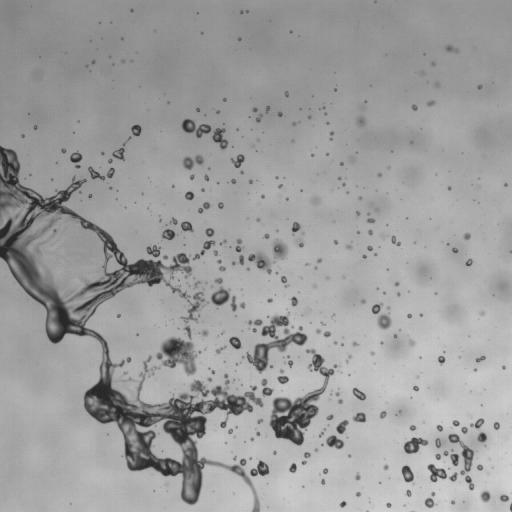droplet: (244, 312, 307, 373), (248, 239, 287, 274), (210, 278, 237, 310), (403, 437, 428, 453), (212, 128, 228, 149), (182, 155, 203, 169), (377, 312, 391, 329), (326, 435, 343, 449), (112, 143, 125, 160), (401, 465, 414, 482), (261, 378, 273, 396), (70, 151, 82, 168), (231, 154, 244, 167), (229, 336, 242, 349), (146, 245, 160, 257), (336, 420, 348, 434), (424, 492, 435, 507), (277, 369, 288, 383), (162, 229, 175, 240), (470, 418, 484, 428), (181, 221, 193, 232), (371, 303, 383, 314), (480, 490, 491, 502), (352, 412, 365, 422), (131, 124, 141, 135), (292, 222, 300, 234), (356, 116, 365, 126), (477, 432, 486, 442), (391, 236, 400, 245), (295, 238, 304, 247), (185, 191, 193, 200), (205, 228, 214, 236), (289, 463, 296, 473), (290, 297, 297, 306), (199, 329, 208, 336), (500, 494, 509, 501), (286, 356, 292, 366), (312, 196, 320, 203), (465, 258, 472, 266), (438, 356, 445, 364), (238, 255, 244, 264), (463, 232, 470, 239), (367, 217, 375, 223), (194, 280, 200, 288), (493, 421, 499, 429), (435, 438, 440, 447), (427, 100, 434, 106), (170, 218, 177, 224), (380, 411, 386, 418), (326, 414, 333, 420), (452, 420, 459, 426), (461, 426, 467, 433), (239, 302, 245, 308), (436, 425, 442, 431), (435, 453, 441, 459), (340, 501, 346, 507), (256, 115, 261, 122), (355, 473, 360, 480), (218, 202, 223, 208), (346, 244, 352, 249), (219, 266, 225, 271), (409, 340, 415, 345), (257, 418, 263, 423), (383, 464, 388, 470), (477, 464, 482, 470), (323, 468, 328, 474), (406, 490, 411, 496), (412, 105, 417, 110), (189, 174, 194, 179), (367, 245, 372, 250), (413, 385, 418, 390), (410, 425, 415, 430), (386, 502, 391, 507), (265, 106, 269, 112), (33, 124, 37, 130), (263, 234, 269, 238), (220, 240, 226, 244), (162, 255, 168, 259), (352, 342, 358, 346), (252, 107, 257, 111), (61, 148, 65, 153), (204, 175, 208, 180), (368, 229, 372, 234), (452, 248, 457, 252), (213, 250, 217, 255), (317, 258, 321, 263), (267, 298, 272, 302), (228, 429, 233, 433), (435, 83, 439, 87), (477, 85, 481, 89), (278, 112, 282, 116), (231, 179, 235, 183), (278, 184, 282, 188), (362, 254, 366, 258), (217, 259, 221, 263), (361, 299, 365, 303), (480, 311, 484, 315), (407, 314, 411, 318), (252, 328, 256, 332), (370, 351, 374, 355), (207, 377, 211, 381), (338, 399, 342, 403), (256, 432, 260, 436), (356, 492, 360, 496), (285, 91, 288, 96), (321, 479, 324, 484), (330, 131, 333, 135), (108, 159, 112, 162), (356, 211, 359, 215), (334, 240, 337, 244), (395, 282, 398, 286), (393, 334, 397, 337), (123, 371, 126, 375), (211, 370, 215, 373), (335, 392, 339, 395), (451, 500, 454, 504), (21, 134, 24, 137), (378, 173, 381, 176), (249, 180, 252, 183), (321, 322, 324, 325), (334, 341, 337, 344), (502, 366, 505, 369), (250, 437, 253, 440), (273, 451, 276, 454), (130, 9, 133, 11), (92, 60, 94, 63), (223, 98, 225, 101), (196, 108, 199, 110), (340, 162, 342, 165), (240, 171, 243, 173), (342, 183, 345, 185), (504, 183, 507, 185), (448, 187, 451, 189), (261, 195, 264, 197), (359, 196, 361, 199), (16, 214, 18, 217), (257, 218, 259, 221), (232, 262, 235, 264), (397, 293, 400, 295), (387, 306, 389, 309), (117, 314, 119, 317), (474, 368, 476, 371), (315, 448, 317, 451), (233, 457, 236, 459), (241, 11, 243, 13), (238, 38, 240, 40), (432, 63, 434, 65), (217, 111, 219, 113), (128, 137, 130, 139), (311, 154, 313, 156), (351, 158, 353, 160), (338, 177, 340, 179), (89, 195, 91, 197), (247, 268, 249, 270), (420, 314, 422, 316), (348, 455, 350, 457)
ligament: (0, 146, 268, 511), (269, 349, 337, 445), (443, 434, 475, 490), (181, 118, 211, 138), (427, 464, 458, 482), (193, 240, 215, 259), (88, 166, 114, 180), (352, 387, 366, 400), (198, 201, 210, 213), (316, 329, 330, 337), (445, 45, 458, 53), (235, 238, 242, 252), (302, 452, 310, 464), (247, 319, 262, 325), (281, 276, 288, 287), (216, 346, 225, 353), (475, 356, 485, 362), (51, 229, 57, 237), (319, 429, 325, 437), (346, 355, 351, 362), (510, 503, 511, 511)
